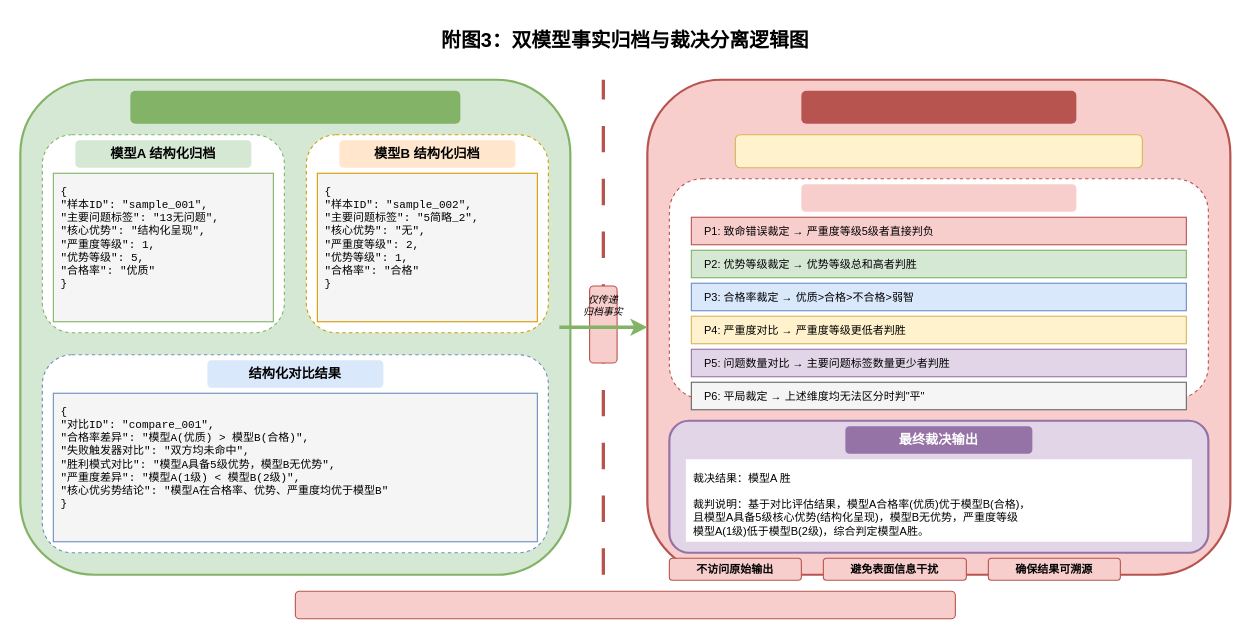
This 1250x638 diagram has some shape labels left out. Here are the shapes that lost their labels. From the top down, the box of each, then its label:
(130, 90, 460, 123): 事实归档层（第一、二、三阶段）
(801, 90, 1076, 123): 裁决推理层（第四阶段）
(734, 134, 1142, 168): 输入：仅读取结构化归档事实
(801, 184, 1076, 211): 多维度裁决规则（按优先级执行）
(588, 285, 617, 363): 隔离边界
(294, 590, 955, 619): 创新点3：事实与裁决分离机制 - 裁决层仅基于结构化事实判定，不访问原始输出
